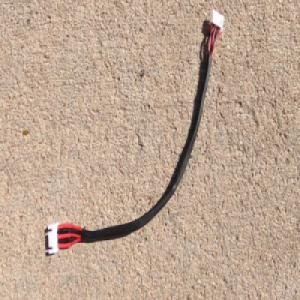Wire: (45, 7, 225, 258)
